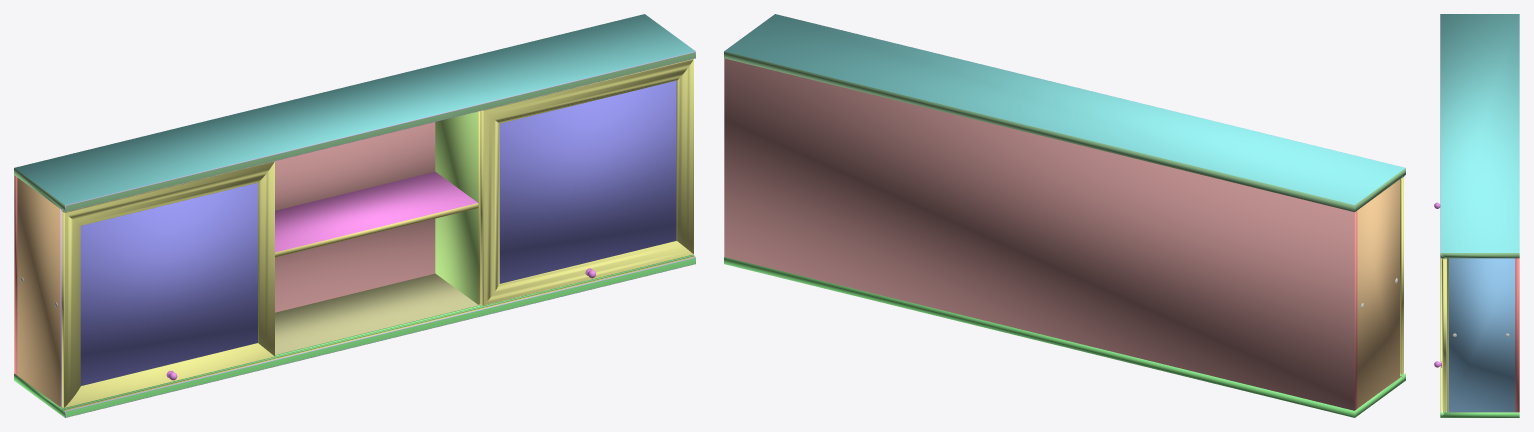
File: shelf1.fbx
The picture shows the model from 3 angles, left to right: view 1: azimuth 30°, elevation 25°; view 2: azimuth 150°, elevation 25°; view 3: azimuth 270°, elevation 25°; orthographic projection. The views are drawn at different scales.
Parts seen in each view (by area): view 1: shelf1; view 2: shelf1; view 3: shelf1.
Part boxes in pixels (left/top/right/bottom): shelf1: left=14, top=14, right=695, bottom=417; shelf1: left=724, top=14, right=1405, bottom=417; shelf1: left=1434, top=14, right=1519, bottom=417.
Size of the model in its own units: 406 by 131 by 61.42.
